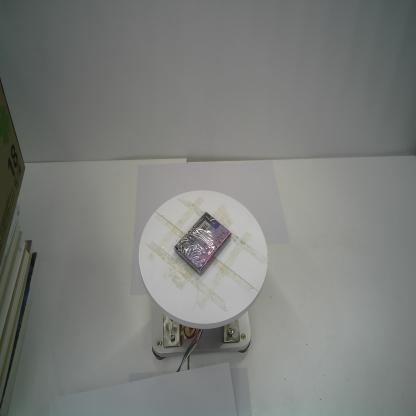Gum: (174, 210, 232, 277)
